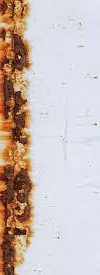Corrosion: (1, 1, 33, 275)
